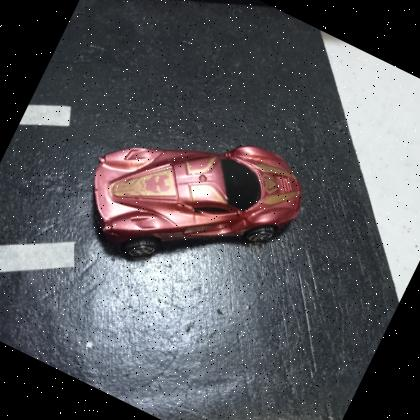Car: (92, 146, 301, 256)
